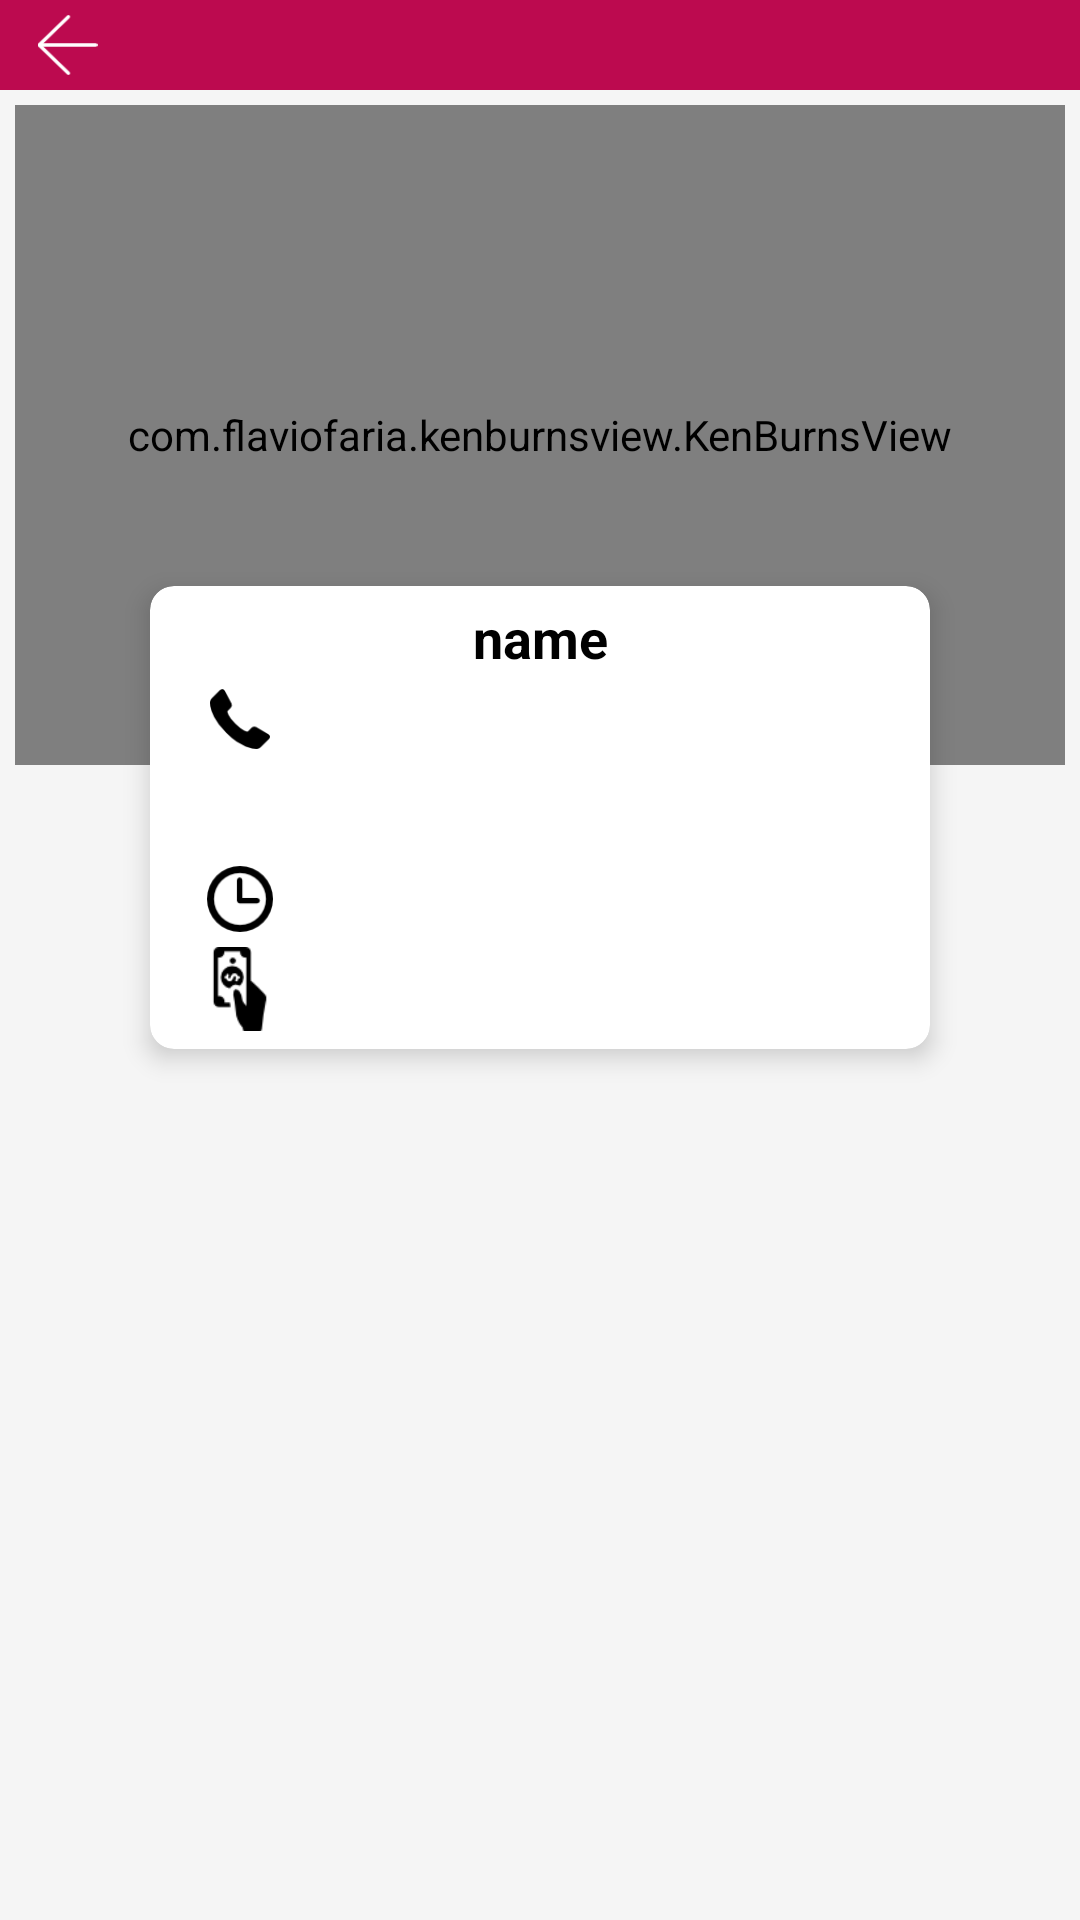

Named icons in this screenshot (1080×1920) and their centers, (x,y):
arrow: (68,45)
bill: (240,989)
call: (240,719)
time: (240,899)
